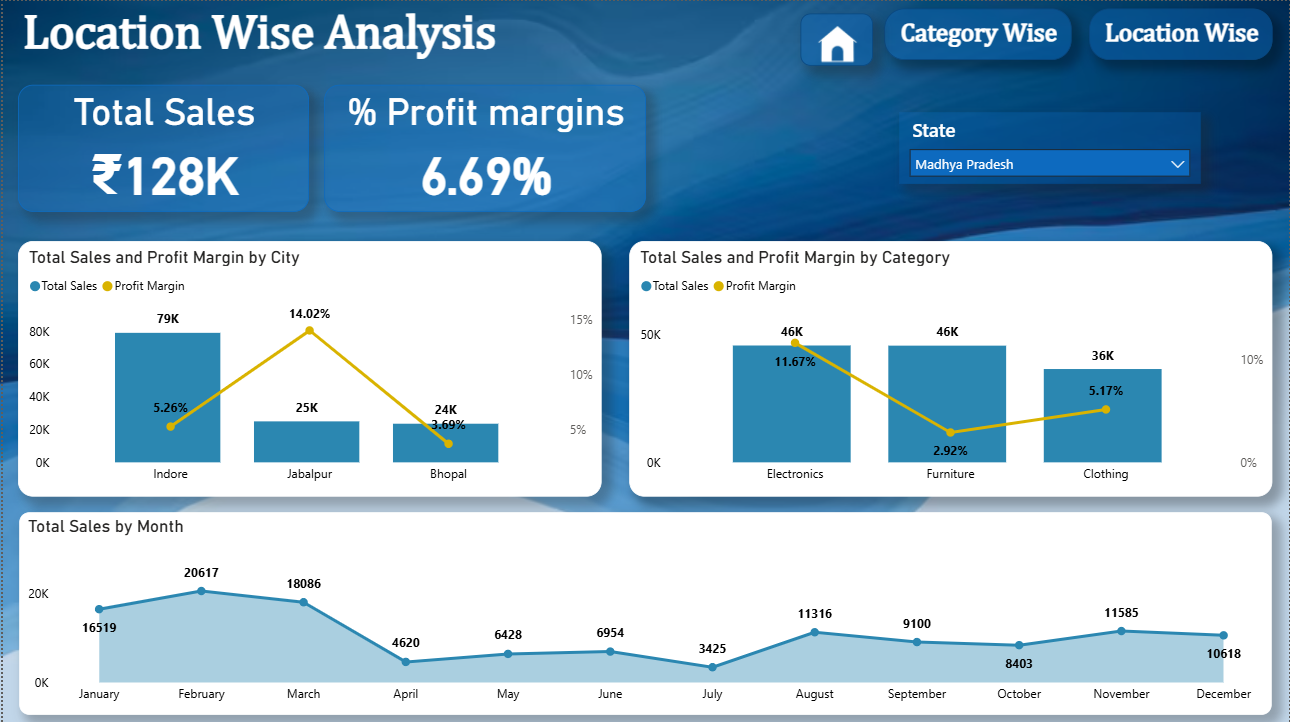

Layout of this report page (visuals, bound fields, positions):
{"tool":"powerbi","page":{"name":"State wise","canvas":[1280,720],"ordinal":2},"visuals":[{"type":"textbox","box":[14.9,0,488.9,69.7],"z":0},{"type":"card","title":"Total Sales","fields":{"Values":["Sum(Order Details.Amount)"]},"box":[15.1,83.8,289.8,126.4],"z":1000},{"type":"slicer","fields":{"Values":["List of Orders.State"]},"box":[891.9,110.7,299.8,70.9],"z":2000},{"type":"card","title":"% Profit margins","fields":{"Values":["Order Details.profit margin"]},"box":[320,83.8,320,126.4],"z":3000},{"type":"lineClusteredColumnComboChart","title":"Total Sales and Profit Margin by City","fields":{"Category":["List of Orders (2).City"],"Y2":["Order Details.profit margin"],"Y":["Order Details.Total Sales"]},"box":[15.1,239,580.9,254.1],"z":4000},{"type":"lineClusteredColumnComboChart","title":"Total Sales and Profit Margin by Category","fields":{"Category":["Order Details.Category"],"Y2":["Order Details.profit margin"],"Y":["Order Details.Total Sales"]},"box":[623.5,239,640,254.1],"z":5000},{"type":"lineChart","title":"Total Sales by Month","fields":{"Y":["Order Details.Total Sales"],"Category":["List of Orders.Order Date.Variation.Date Hierarchy.Month"]},"box":[16.2,508.8,1246.4,201.5],"z":6000},{"type":"actionButton","title":"Over All","box":[877.6,6.9,186.8,50.8],"z":7000},{"type":"actionButton","title":"Over All","box":[1080.9,6.9,182.7,50.8],"z":8000},{"type":"actionButton","box":[793.6,12.4,72.1,52.2],"z":9000}]}

Visuals, with their boxes in screenshot pixels (x1, y1, x2, y2), scaled from the page's 1280x720 canvas onto the 1290x722 screenshot:
textbox: 15, 0, 508, 70
"Total Sales" card: 15, 84, 307, 211
slicer - List of Orders.State: 899, 111, 1201, 182
"% Profit margins" card: 322, 84, 645, 211
"Total Sales and Profit Margin by City" lineClusteredColumnComboChart: 15, 240, 601, 494
"Total Sales and Profit Margin by Category" lineClusteredColumnComboChart: 628, 240, 1273, 494
"Total Sales by Month" lineChart: 16, 510, 1272, 712
"Over All" actionButton: 884, 7, 1073, 58
"Over All" actionButton: 1089, 7, 1273, 58
actionButton: 800, 12, 872, 65
